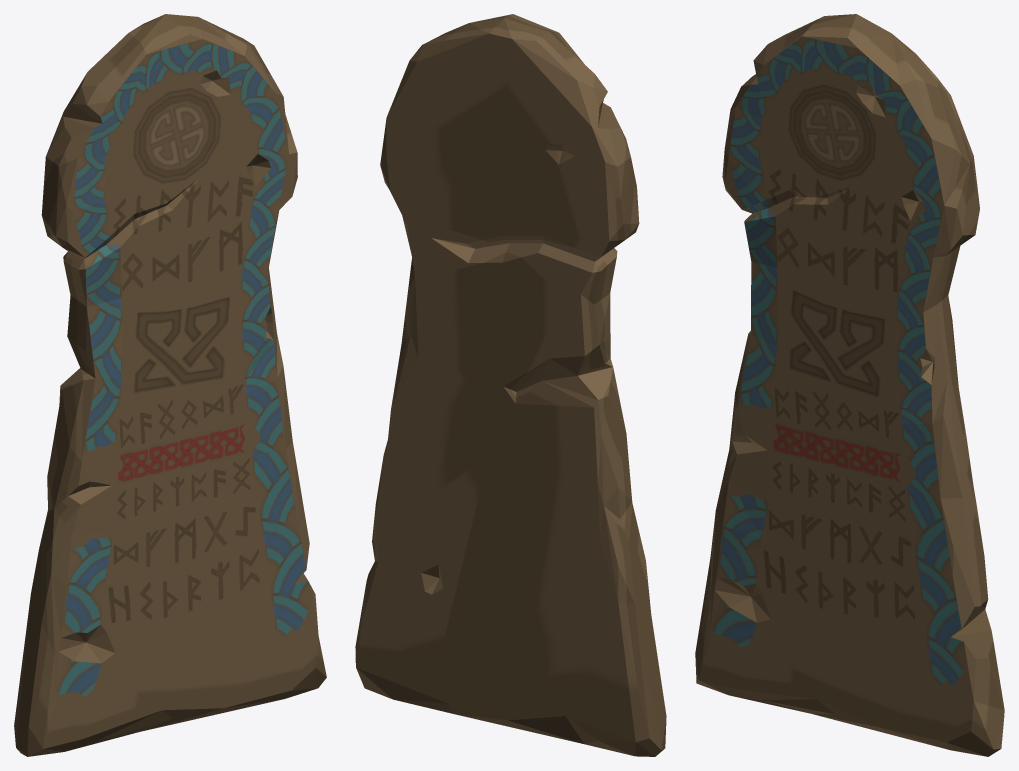
The model's file is SM_Prop_RuneStone_04.fbx.
The picture shows the model from 3 angles, left to right: view 1: azimuth 30°, elevation 25°; view 2: azimuth 150°, elevation 25°; view 3: azimuth 330°, elevation 25°; orthographic projection.
Parts seen in each view (by area): view 1: SM_Prop_RuneStone_04; view 2: SM_Prop_RuneStone_04; view 3: SM_Prop_RuneStone_04.
Boxes of the visible parts, box(x1,y1,x2,y2) form: SM_Prop_RuneStone_04: box(14, 14, 326, 756); SM_Prop_RuneStone_04: box(355, 14, 666, 756); SM_Prop_RuneStone_04: box(695, 14, 1004, 756).
Bounding box in the file's own units: 135 × 297 × 19.3.
